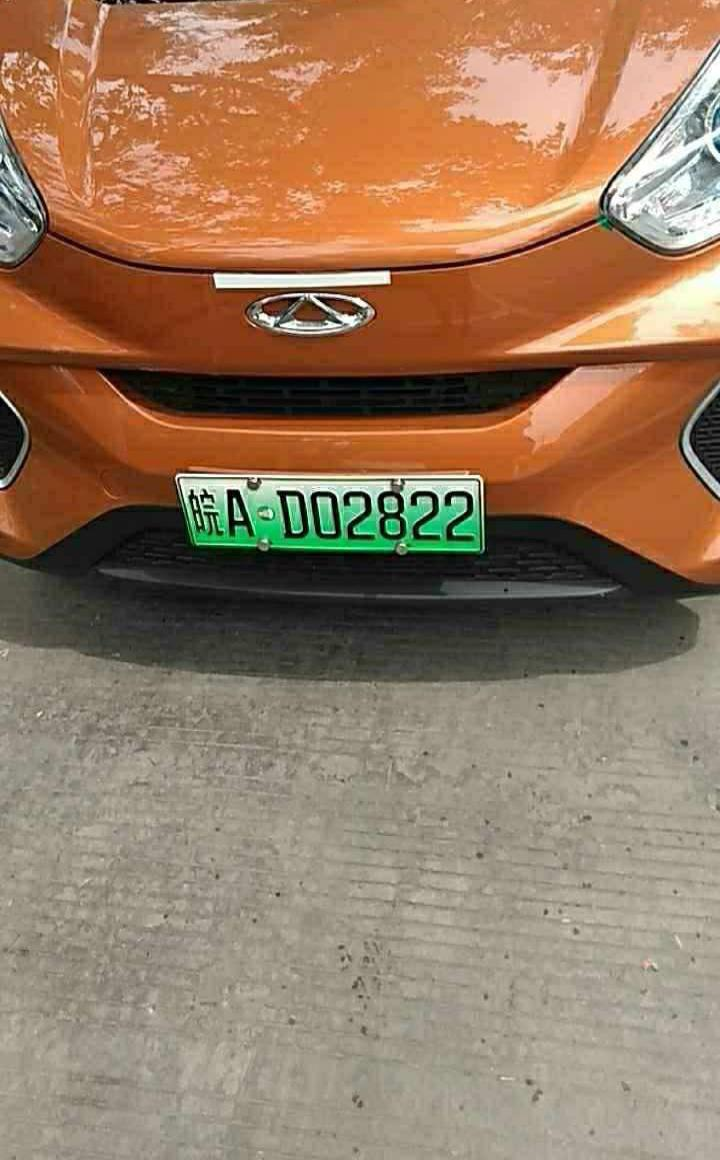car: (174, 476, 481, 555)
